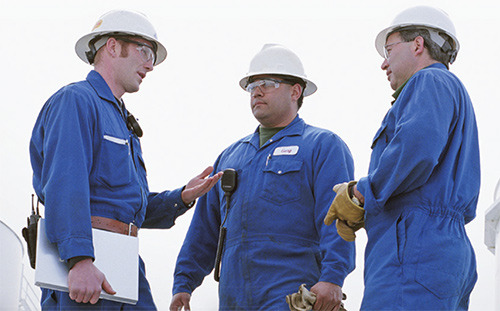Helmet: (73, 7, 171, 66), (373, 3, 465, 56), (236, 42, 320, 96)
